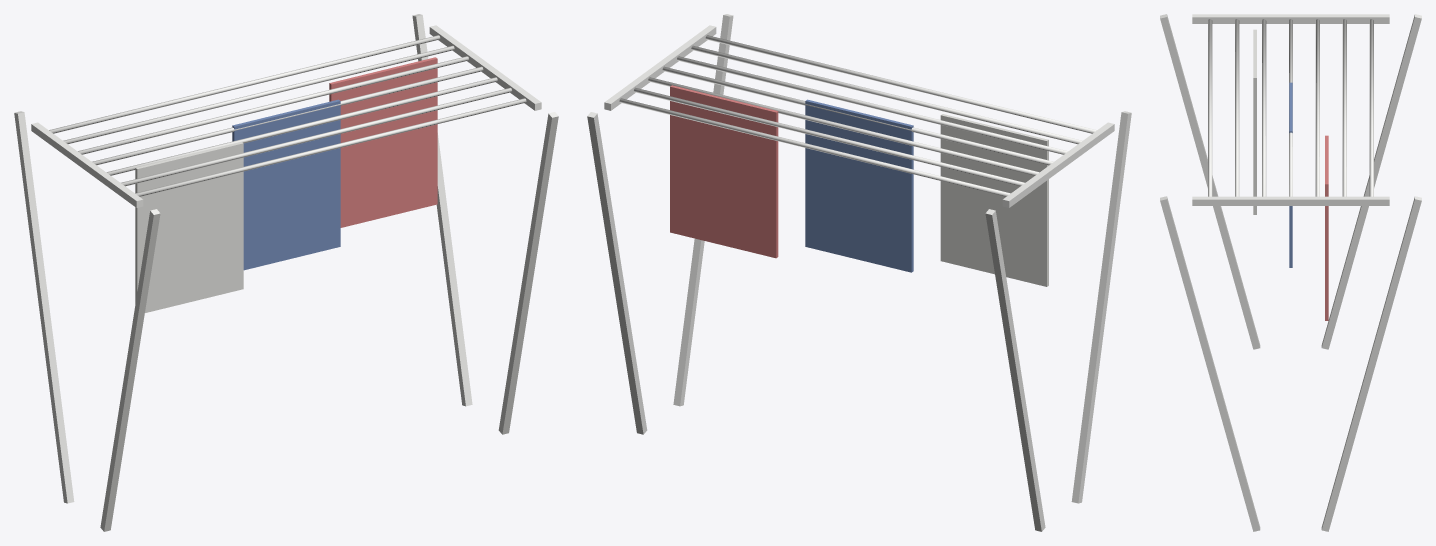
The model's file is drying_rack.glb.
3 views of the same model, side by side, from view 1: azimuth 30°, elevation 25°; view 2: azimuth 150°, elevation 25°; view 3: azimuth 270°, elevation 25° (orthographic). The views are drawn at different scales.
Visible parts, largest first — view 1: Cube.006, Cube.007, Cube.008, Cube.002, Cube.004, Cube.001, Cube.005, Cylinder.001, Cylinder.005, Cylinder, Cylinder.004, Cylinder.006 (+4 smaller); view 2: Cube.008, Cube.007, Cube.006, Cube.001, Cube.005, Cube.002, Cube.004, Cylinder.001, Cylinder.005, Cylinder.006, Cylinder.002, Cylinder (+4 smaller); view 3: Cube.004, Cube.005, Cube.001, Cube.002, Cube.003, Cube, Cylinder, Cylinder.001, Cylinder.005, Cylinder.006, Cylinder.002, Cylinder.004 (+4 smaller).
Part boxes in pixels (bbox=[...]): Cube.006: bbox=[135, 142, 243, 312]; Cube.007: bbox=[232, 99, 340, 270]; Cube.008: bbox=[329, 57, 437, 227]; Cube.002: bbox=[14, 111, 74, 503]; Cube.004: bbox=[498, 112, 558, 434]; Cube.001: bbox=[100, 209, 160, 531]; Cube.005: bbox=[412, 14, 472, 406]; Cylinder.001: bbox=[121, 87, 511, 186]; Cylinder.005: bbox=[63, 45, 454, 144]; Cylinder: bbox=[135, 98, 526, 196]; Cylinder.004: bbox=[78, 56, 468, 154]; Cylinder.006: bbox=[49, 35, 440, 133]; Cube.008: bbox=[670, 85, 778, 258]; Cube.007: bbox=[805, 99, 913, 272]; Cube.006: bbox=[940, 114, 1048, 286]; Cube.001: bbox=[1071, 111, 1131, 503]; Cube.005: bbox=[587, 112, 647, 434]; Cube.002: bbox=[985, 209, 1045, 531]; Cube.004: bbox=[673, 14, 733, 406]; Cylinder.001: bbox=[691, 45, 1082, 144]; Cylinder.005: bbox=[634, 87, 1024, 186]; Cylinder.006: bbox=[619, 98, 1010, 196]; Cylinder.002: bbox=[677, 56, 1067, 154]; Cylinder: bbox=[705, 35, 1096, 133]; Cube.004: bbox=[1160, 196, 1260, 531]; Cube.005: bbox=[1321, 196, 1421, 531]; Cube.001: bbox=[1160, 14, 1260, 349]; Cube.002: bbox=[1321, 14, 1421, 349]; Cube.003: bbox=[1192, 196, 1389, 205]; Cube: bbox=[1192, 14, 1389, 23]; Cylinder: bbox=[1208, 19, 1212, 196]; Cylinder.001: bbox=[1235, 19, 1239, 196]; Cylinder.005: bbox=[1342, 19, 1346, 196]; Cylinder.006: bbox=[1369, 19, 1373, 196]; Cylinder.002: bbox=[1262, 19, 1266, 196]; Cylinder.004: bbox=[1315, 19, 1319, 196].
Bounding box in the file's own units: 1.22 × 1.02 × 0.7292.
